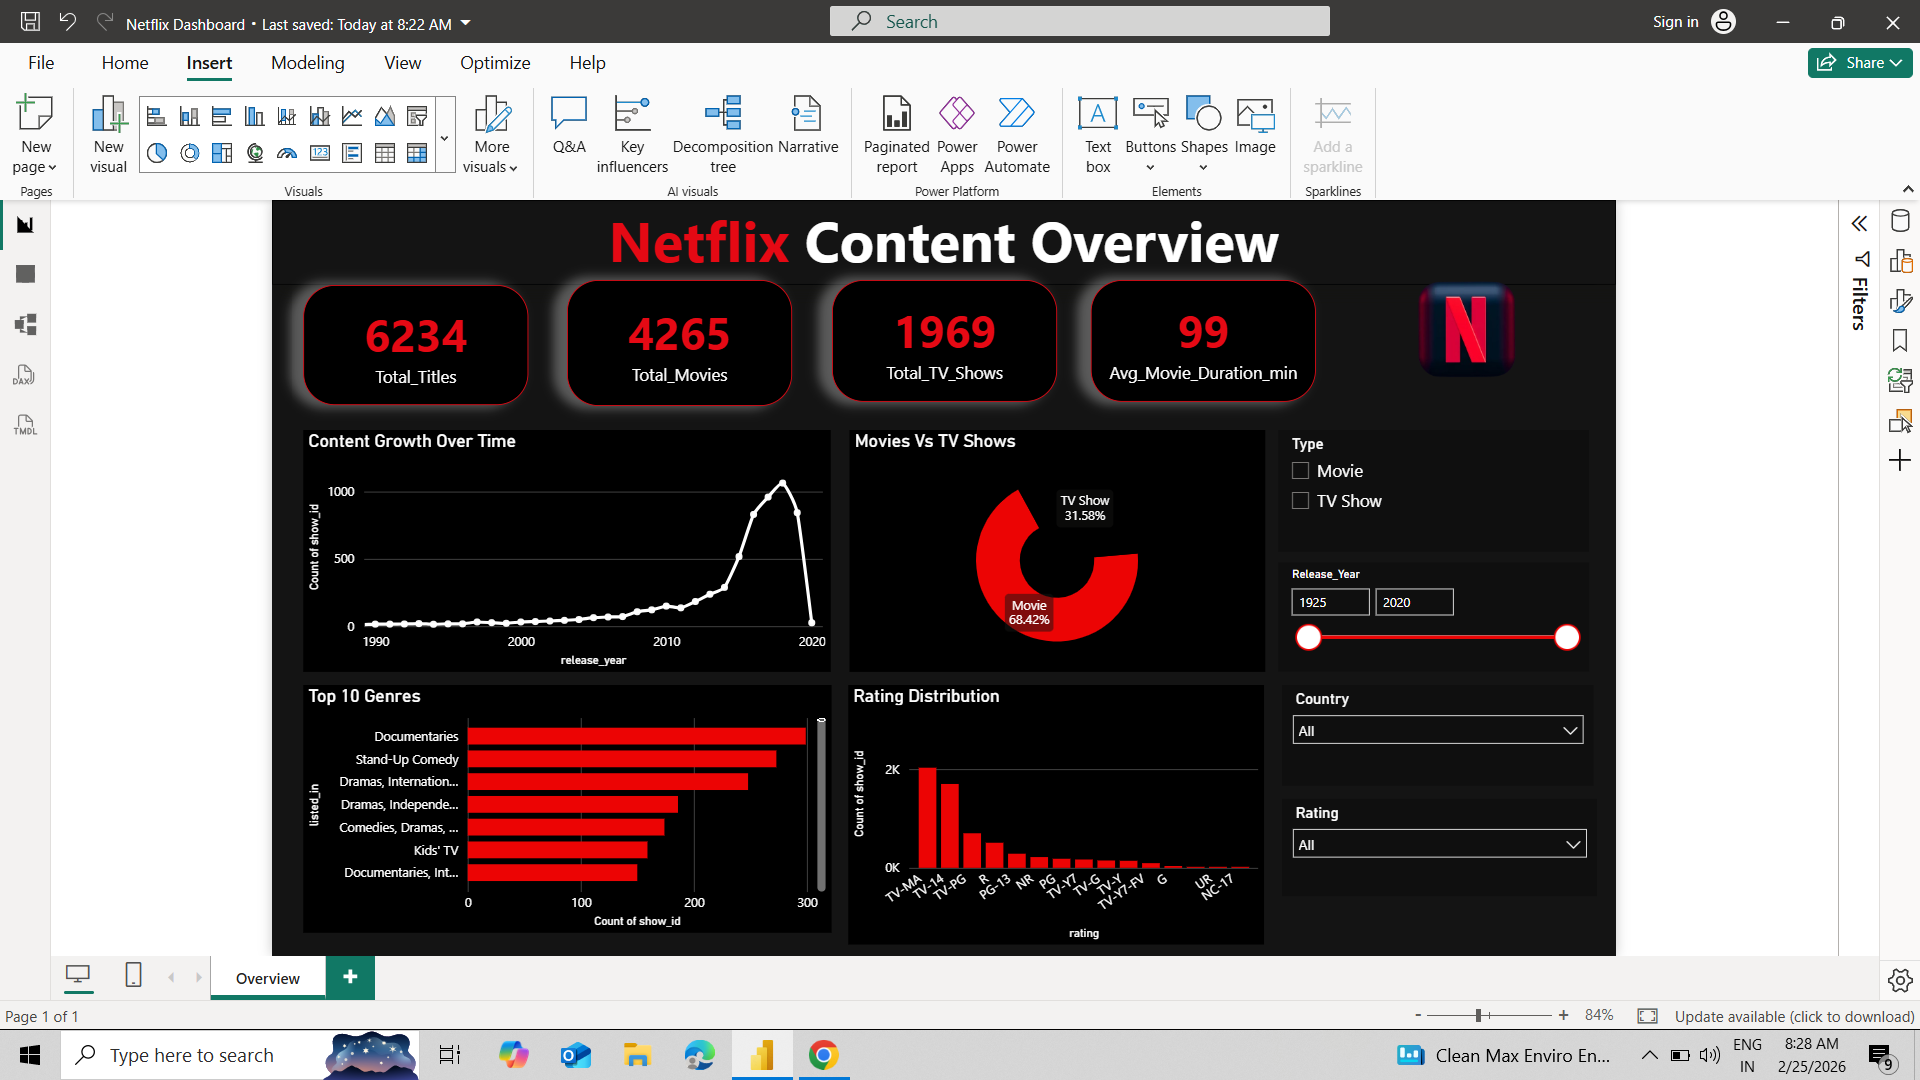

Layout of this report page (visuals, bound fields, positions):
{"tool":"powerbi","page":{"name":"Overview","canvas":[1280,720],"ordinal":0},"visuals":[{"type":"shape","box":[0,0,1280,80.8],"z":0},{"type":"textbox","box":[0,0,1280,80.8],"z":1000},{"type":"card","fields":{"Values":["Netflix_Data.Total_Titles"]},"box":[30,81.4,214.3,114.3],"z":2000},{"type":"card","fields":{"Values":["Netflix_Data.Total_Movies"]},"box":[281.4,75.7,214.3,120],"z":3000},{"type":"card","fields":{"Values":["Netflix_Data.Total_TV_Shows"]},"box":[532.9,75.7,214.3,115.7],"z":4000},{"type":"card","fields":{"Values":["Netflix_Data.Avg_Movie_Duration"]},"box":[780,75.7,214.3,115.7],"z":5000},{"type":"donutChart","title":"Movies Vs TV Shows","fields":{"Category":["Netflix_Data.type"],"Y":["CountNonNull(Netflix_Data.show_id)"]},"box":[550,218.6,395.7,230],"z":6000},{"type":"lineChart","title":"Content Growth Over Time","fields":{"Y":["CountNonNull(Netflix_Data.show_id)"],"Category":["Netflix_Data.release_year"]},"box":[30,218.8,502.5,230],"z":7000},{"type":"clusteredBarChart","title":"Top 10 Genres","fields":{"Category":["Netflix_Data.listed_in"],"Y":["CountNonNull(Netflix_Data.show_id)"]},"box":[30,461.4,502.9,235.7],"z":8000},{"type":"clusteredColumnChart","title":"Rating Distribution","fields":{"Category":["Netflix_Data.rating"],"Y":["CountNonNull(Netflix_Data.show_id)"]},"box":[548.6,461.4,395.7,247.1],"z":9000},{"type":"slicer","fields":{"Values":["Netflix_Data.type"]},"box":[958.6,218.6,295.7,115.7],"z":10000},{"type":"slicer","fields":{"Values":["Netflix_Data.release_year"]},"box":[958.6,345.7,295.7,102.9],"z":11000},{"type":"slicer","fields":{"Values":["Netflix_Data.country"]},"box":[961.4,461.4,297.1,95.7],"z":12000},{"type":"slicer","fields":{"Values":["Netflix_Data.rating"]},"box":[961.4,570,300,92.9],"z":13000},{"type":"image","box":[1024.4,66.4,216.4,124.1],"z":13001}]}

Visuals, with their boxes on the page's 1280x720 design canvas (x1, y1, x2, y2). These are canvas units, not pixel positions in the 1920x1080 screenshot, which may show the page scaled, cropped or inside an application window:
shape: bbox=(0, 0, 1280, 81)
textbox: bbox=(0, 0, 1280, 81)
card - Netflix_Data.Total_Titles: bbox=(30, 81, 244, 196)
card - Netflix_Data.Total_Movies: bbox=(281, 76, 496, 196)
card - Netflix_Data.Total_TV_Shows: bbox=(533, 76, 747, 191)
card - Netflix_Data.Avg_Movie_Duration: bbox=(780, 76, 994, 191)
"Movies Vs TV Shows" donutChart: bbox=(550, 219, 946, 449)
"Content Growth Over Time" lineChart: bbox=(30, 219, 532, 449)
"Top 10 Genres" clusteredBarChart: bbox=(30, 461, 533, 697)
"Rating Distribution" clusteredColumnChart: bbox=(549, 461, 944, 708)
slicer - Netflix_Data.type: bbox=(959, 219, 1254, 334)
slicer - Netflix_Data.release_year: bbox=(959, 346, 1254, 449)
slicer - Netflix_Data.country: bbox=(961, 461, 1258, 557)
slicer - Netflix_Data.rating: bbox=(961, 570, 1261, 663)
image: bbox=(1024, 66, 1241, 190)
